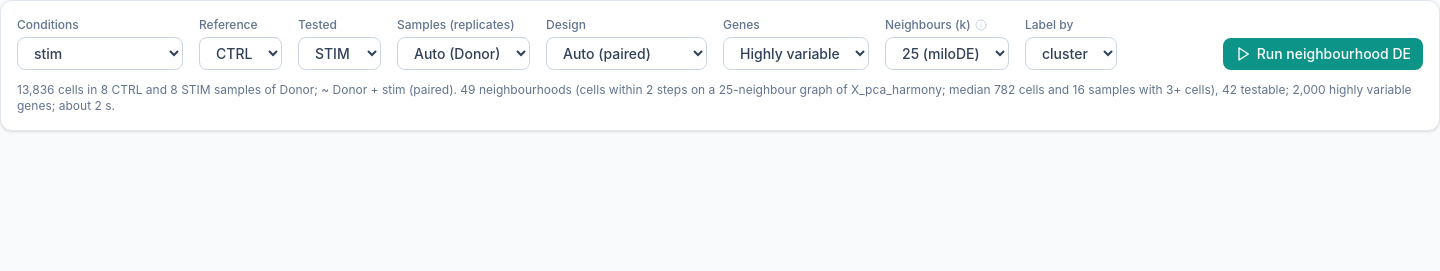
Test: MiloDETest › can cancel a run
Check: the text with test id "milode-plan" is shown, box [17, 82, 1423, 114]
Click the button "Run neighbourhood DE". click: (1323, 54)
box: [1223, 38, 1423, 70]
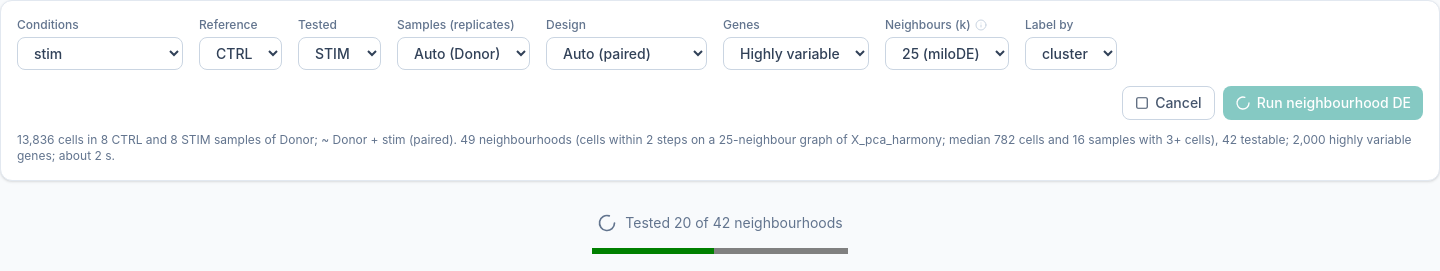
Check: the text "Tested 20 of 42 neighbourhoods" is shown, box [597, 213, 843, 233]
Click the button "Cancel". click: (1168, 103)
box: [1122, 86, 1215, 120]
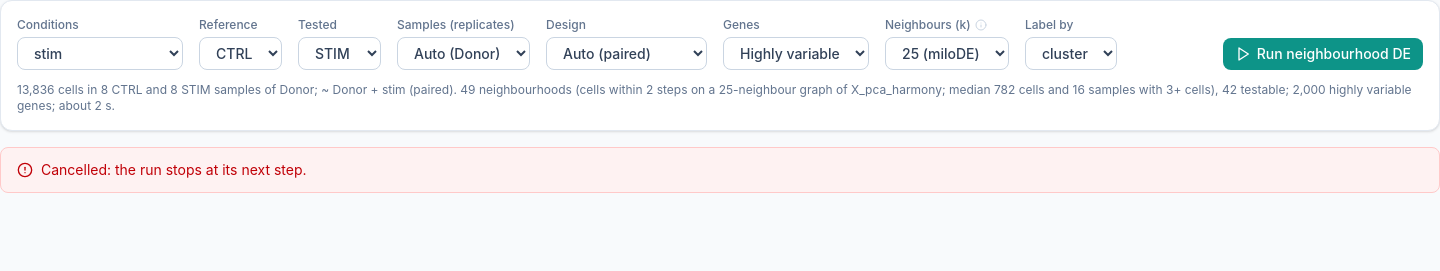
Check: the text "Cancelled: the run stops at its next step." is shown, box [0, 147, 1439, 193]
